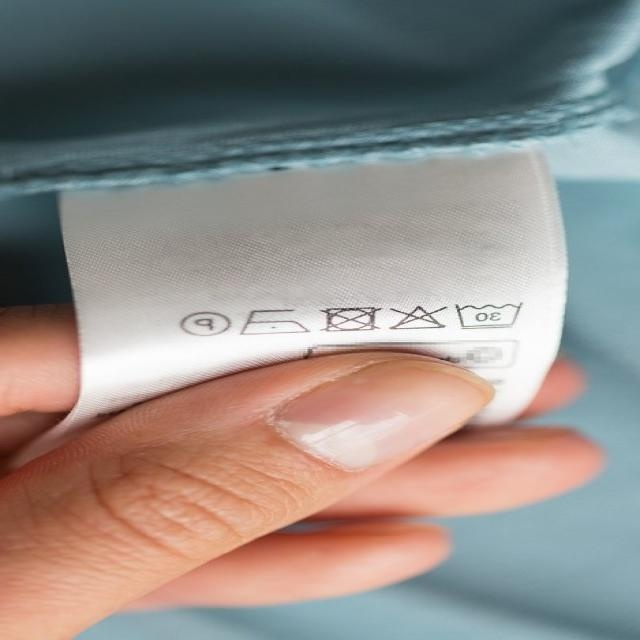30C: (452, 294, 522, 332)
DN_bleach: (384, 300, 447, 335)
DN_tumble_dry: (314, 300, 377, 334)
dry_clean_any_solvent_except_trichloroethylene: (176, 303, 234, 341)
iron_low: (240, 303, 308, 337)
